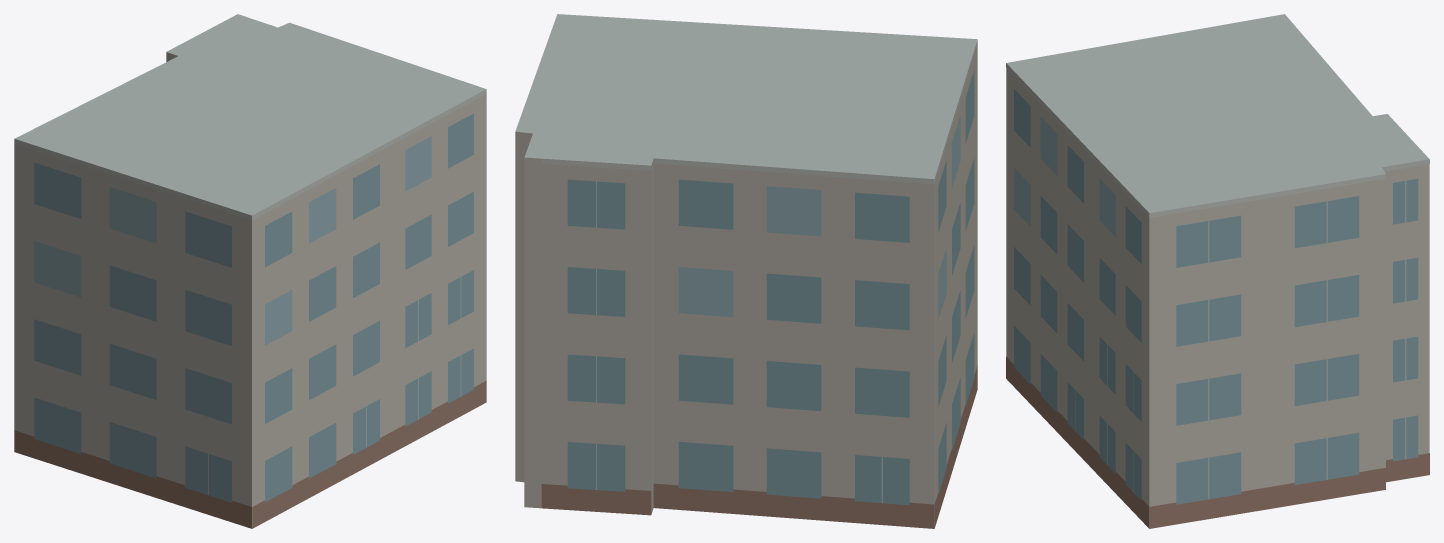
Rendered from survey-upis-32745986.glb.
The picture shows the model from 3 angles, left to right: view 1: azimuth 30°, elevation 25°; view 2: azimuth 150°, elevation 25°; view 3: azimuth 270°, elevation 25°; orthographic projection. The views are drawn at different scales.
Visible parts, largest first — view 1: survey-upis-32745986.tmp; view 2: survey-upis-32745986.tmp; view 3: survey-upis-32745986.tmp.
Boxes of the visible parts, x1=… form: survey-upis-32745986.tmp: x1=14, y1=14, x2=486, y2=528; survey-upis-32745986.tmp: x1=515, y1=14, x2=977, y2=528; survey-upis-32745986.tmp: x1=1006, y1=14, x2=1429, y2=528.
Size of the model in its own units: 22.28 by 16.46 by 20.02.
